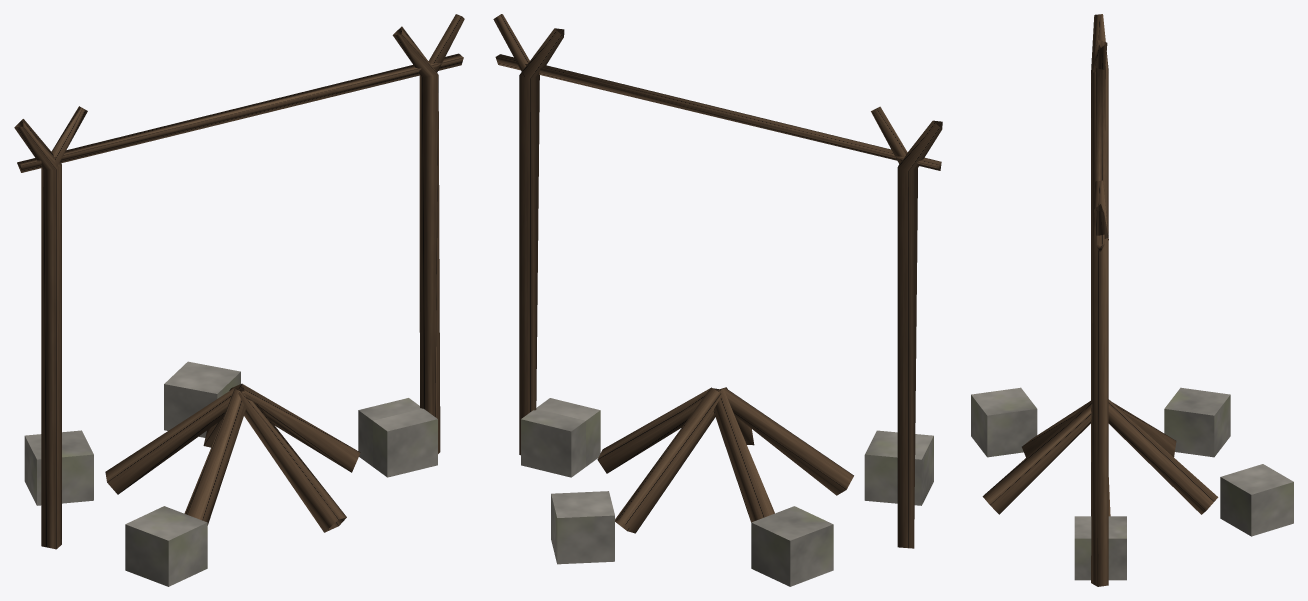
Rendered from Campfire_Spit_1_LOD2.gltf.
The picture shows the model from 3 angles, left to right: view 1: azimuth 30°, elevation 25°; view 2: azimuth 150°, elevation 25°; view 3: azimuth 270°, elevation 25°; orthographic projection. The views are drawn at different scales.
Parts seen in each view (by area): view 1: Campfire_Spit_1_LOD2; view 2: Campfire_Spit_1_LOD2; view 3: Campfire_Spit_1_LOD2.
Boxes of the visible parts, x1,y1,x2,y2 form: Campfire_Spit_1_LOD2: [14, 14, 464, 586]; Campfire_Spit_1_LOD2: [493, 14, 942, 586]; Campfire_Spit_1_LOD2: [971, 14, 1293, 586].
Bounding box in the file's own units: 1.42 × 1.31 × 0.982.
Materials: 2 (2 with a texture image).
